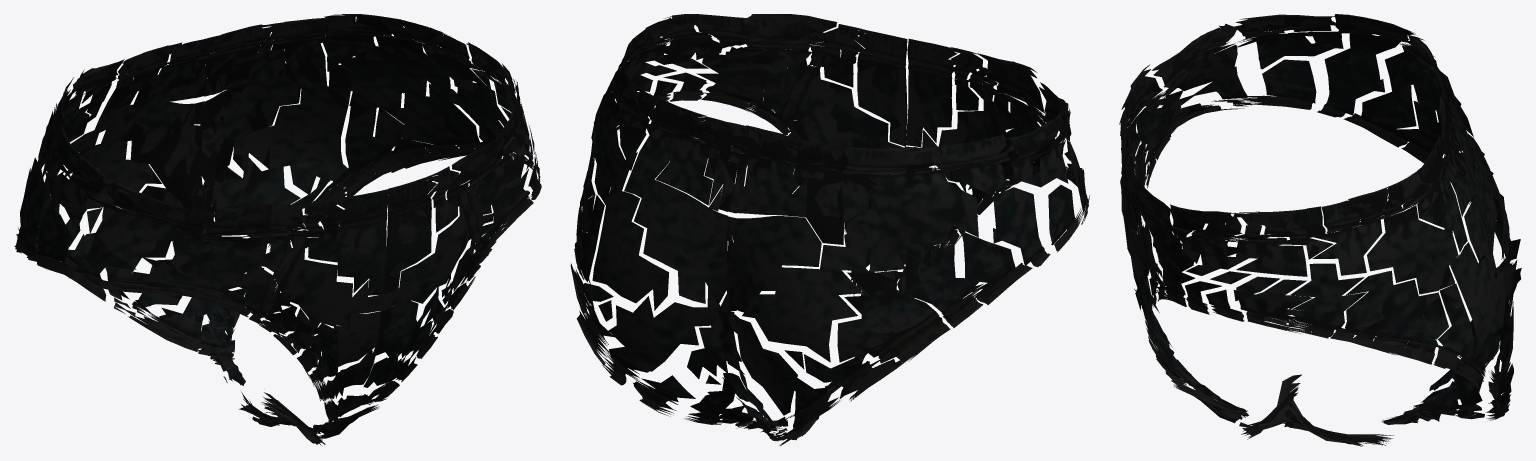
The model's file is dante.mobile.glb.
3 views of the same model, side by side, from view 1: azimuth 30°, elevation 25°; view 2: azimuth 150°, elevation 25°; view 3: azimuth 270°, elevation 25° (orthographic). The views are drawn at different scales.
Parts seen in each view (by area): view 1: geometry_0; view 2: geometry_0; view 3: geometry_0.
Boxes of the visible parts, box(x1,y1,x2,y2) form: geometry_0: box(14, 14, 541, 445); geometry_0: box(570, 14, 1089, 445); geometry_0: box(1119, 14, 1521, 446).
Bounding box in the file's own units: 0.3388 × 0.2457 × 0.2617.
1 material, 1 textured.
